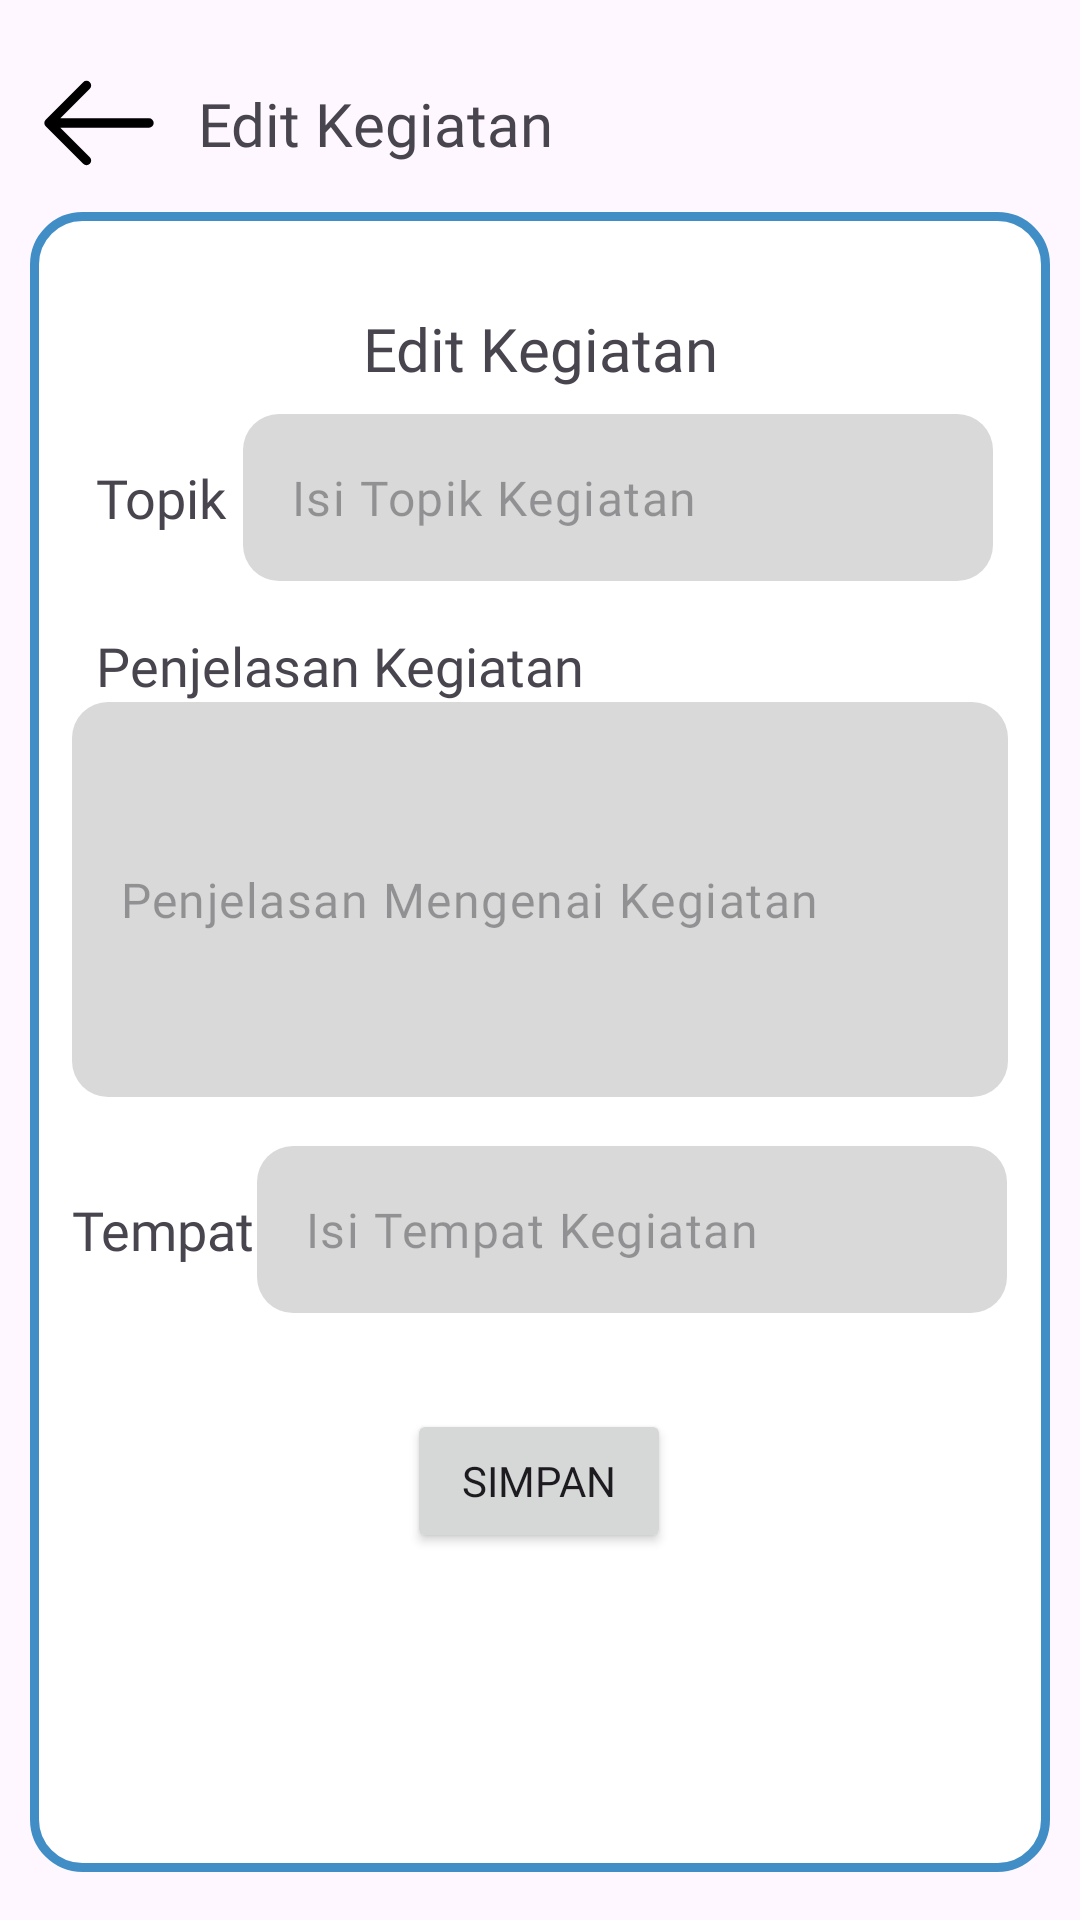

Point at icon controls on the screen. Image size 1080 × 1920, points as [x,y].
back: [99,123]
